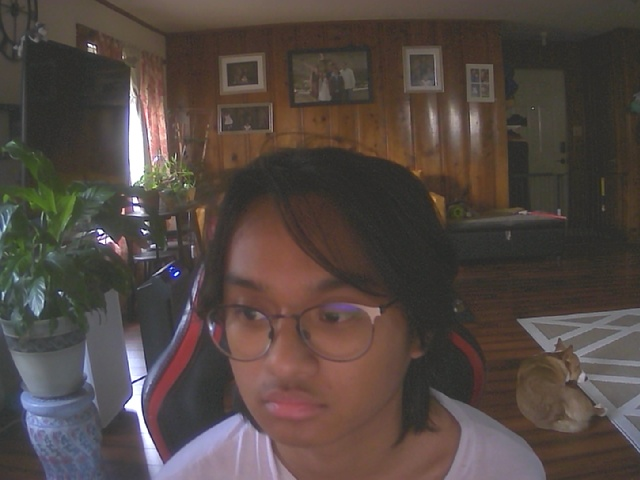neutral: (202, 154, 449, 449)
